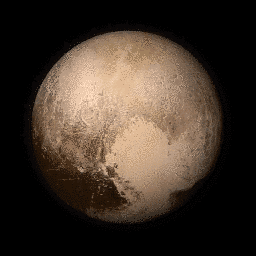planet: (28, 27, 224, 225)
